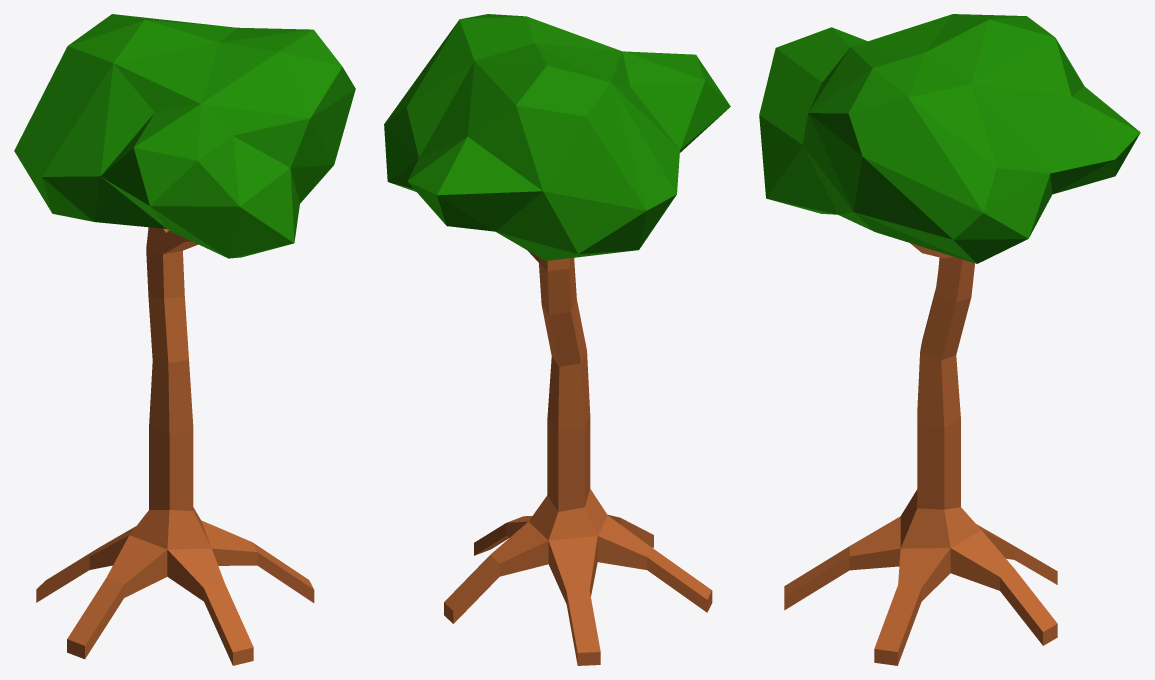
File: tree_medium.fbx
3 views of the same model, side by side, from view 1: azimuth 30°, elevation 25°; view 2: azimuth 150°, elevation 25°; view 3: azimuth 270°, elevation 25° (orthographic). The views are drawn at different scales.
Parts seen in each view (by area): view 1: tree2; view 2: tree2; view 3: tree2.
Boxes of the visible parts, bbox=[...] form: tree2: bbox=[14, 14, 355, 665]; tree2: bbox=[384, 14, 730, 665]; tree2: bbox=[759, 14, 1140, 665].
Size of the model in its own units: 243 by 460 by 266.
